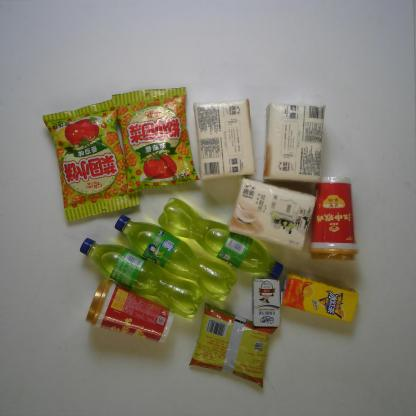Drink: (114, 214, 238, 302), (158, 197, 284, 280), (80, 237, 204, 319), (280, 271, 360, 324)
Instant Drink: (85, 279, 175, 344), (310, 176, 359, 262)
Milk: (252, 275, 281, 328)
Puffed Food: (41, 97, 140, 222), (112, 86, 201, 196)
Seasoner: (187, 300, 278, 390)
Tissue: (228, 176, 317, 252), (262, 101, 326, 185), (193, 98, 256, 181)
